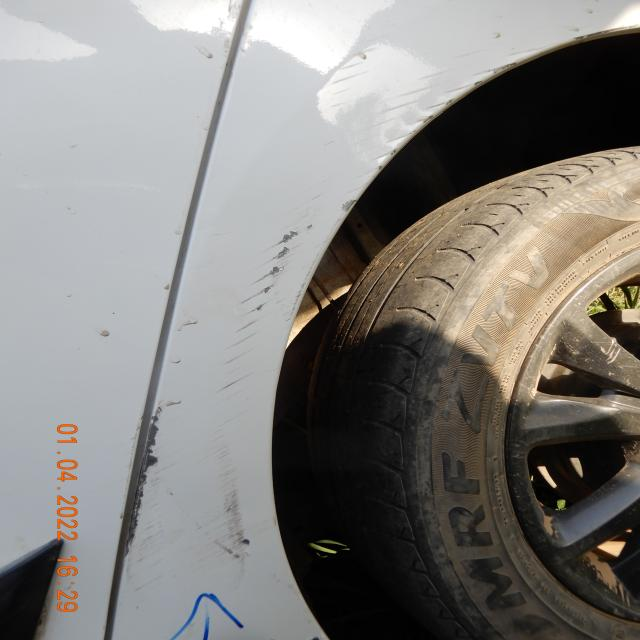damage: (313, 27, 519, 177), (122, 401, 256, 574), (234, 226, 304, 392)
